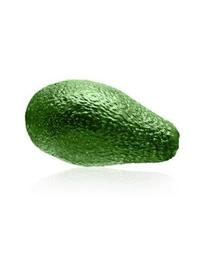avocado: (24, 80, 179, 168)
